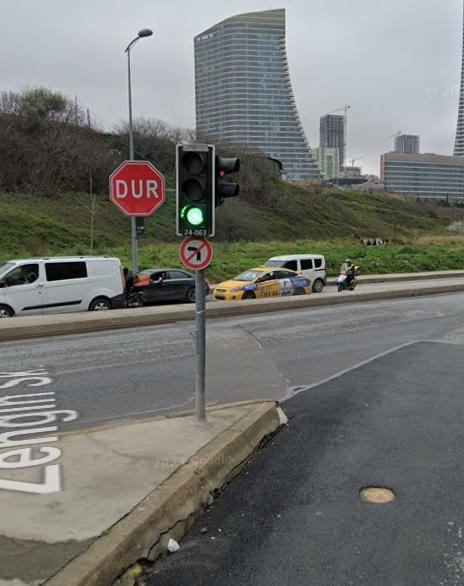greenlight: (177, 145, 212, 234)
leftturnsareforbidden: (182, 239, 210, 266)
redlight: (216, 155, 240, 212)
stop: (110, 161, 165, 213)
